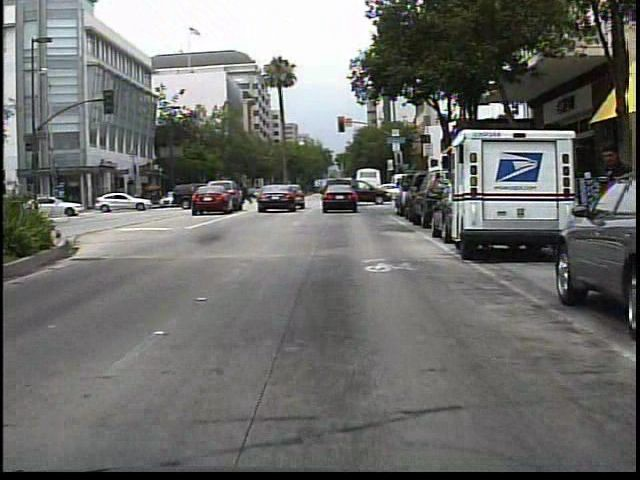person: (590, 142, 634, 280), (242, 181, 257, 207)
